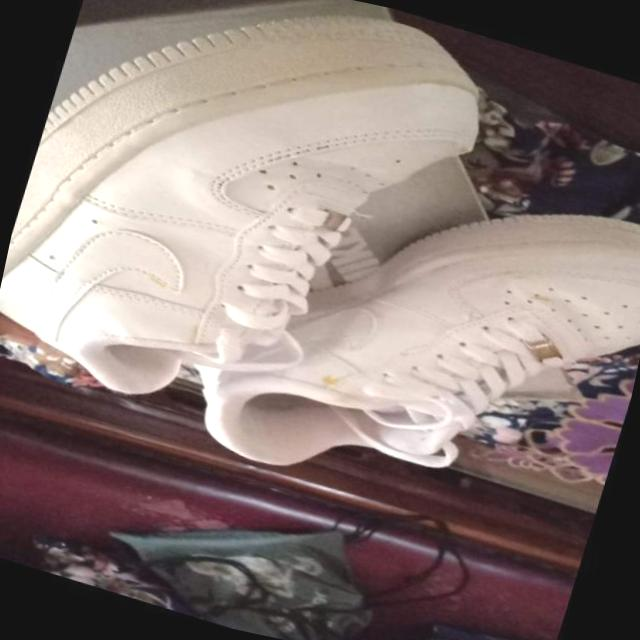nike_fake_airforce: (0, 0, 509, 476), (179, 110, 640, 566)
